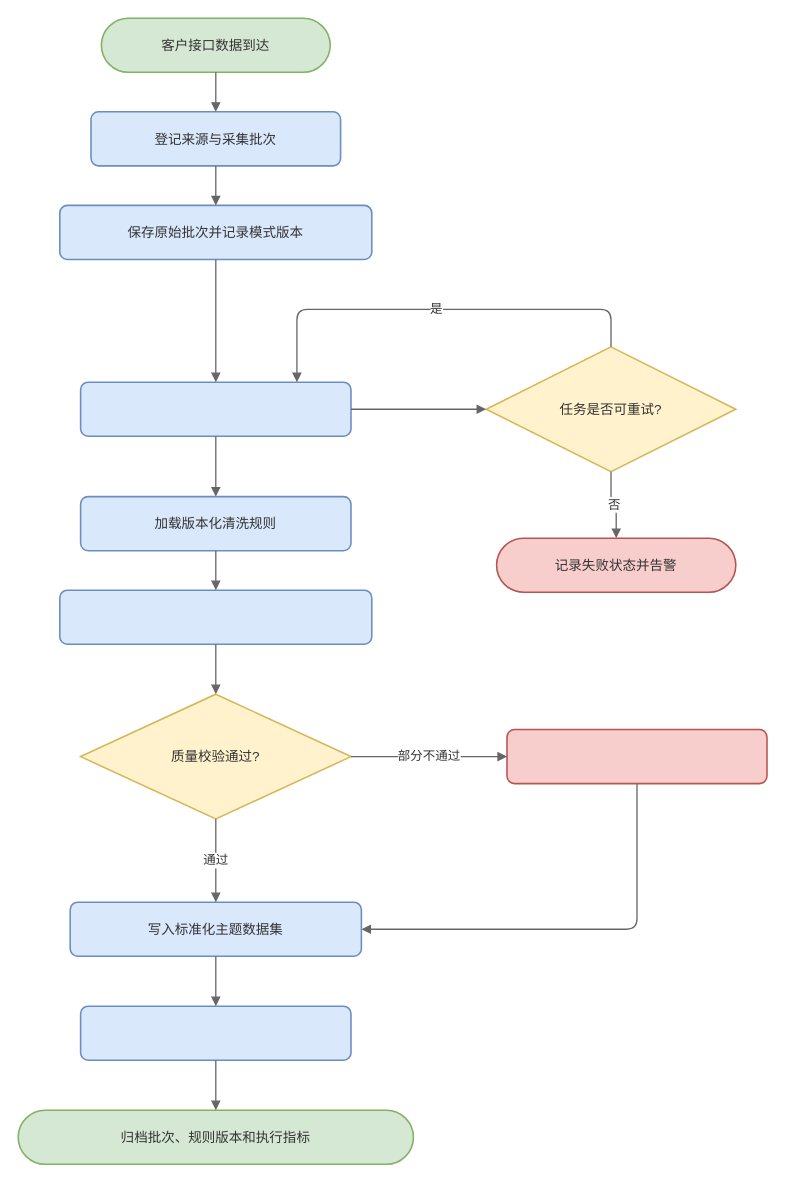
Image size: 786x1184. Some labels were removed from this diagram. The shapes that lost their labels are listed below. From the top down, each one's centre as x and y in pixels, then its label:
At point (215, 409): "提交 Spark 清洗任务".
At point (215, 617): "校验、标准化、映射与去重".
At point (636, 756): "记录质量问题与拒绝数据".
At point (215, 1033): "刷新或供 BI 视图消费".
